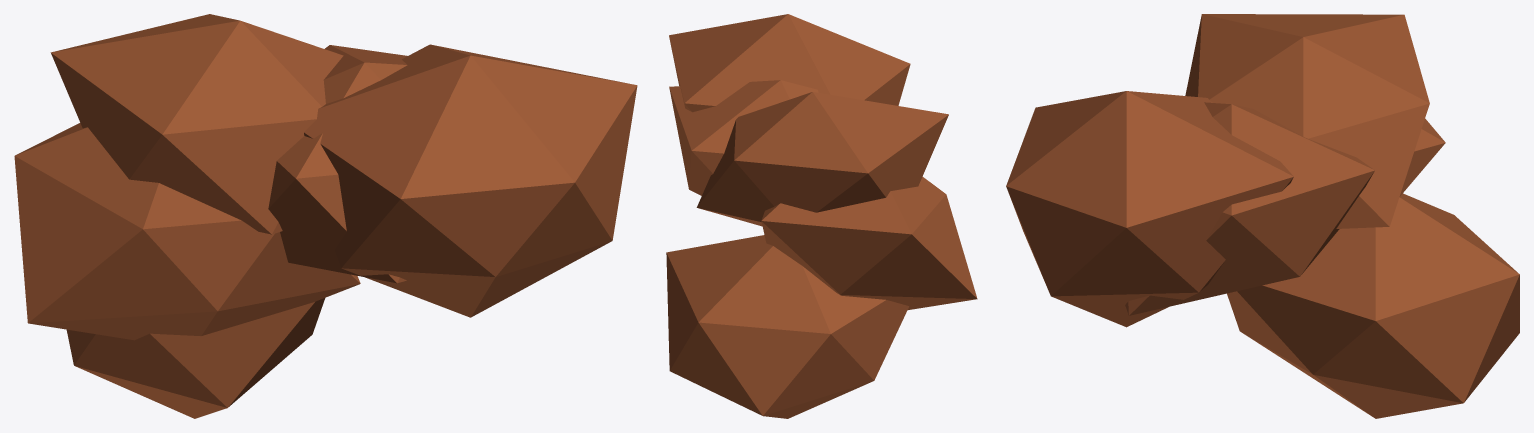
File: tree_rustwood_l_crown.fbx
The picture shows the model from 3 angles, left to right: view 1: azimuth 30°, elevation 25°; view 2: azimuth 150°, elevation 25°; view 3: azimuth 270°, elevation 25°; orthographic projection. The views are drawn at different scales.
Visible parts, largest first — view 1: tree_rustwood_l_crown; view 2: tree_rustwood_l_crown; view 3: tree_rustwood_l_crown.
Part boxes in pixels (left/top/right/bottom): tree_rustwood_l_crown: left=14, top=14, right=637, bottom=418; tree_rustwood_l_crown: left=666, top=14, right=977, bottom=418; tree_rustwood_l_crown: left=1006, top=14, right=1519, bottom=418.
Bounding box in the file's own units: 3072 × 2431 × 2914.
